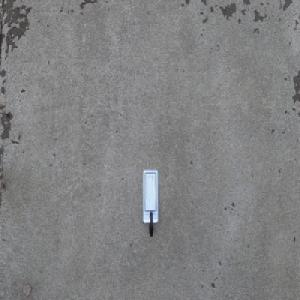LuggageTag: (142, 168, 159, 237)
